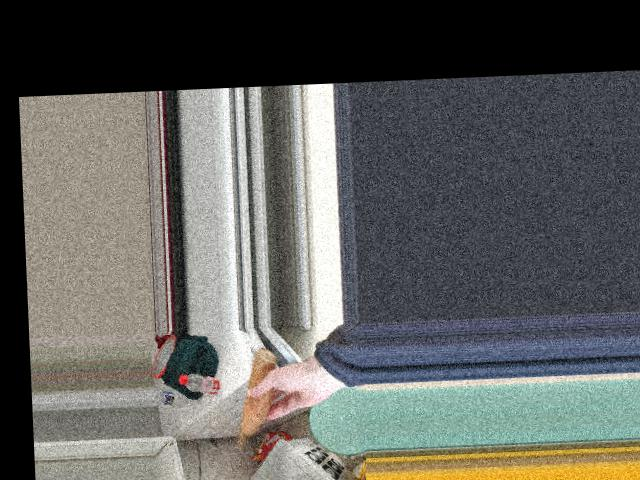sweet_potato: (228, 353, 283, 446)
